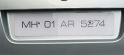0: (43, 20, 51, 28)
1: (50, 19, 57, 28)
2: (87, 19, 94, 28)
4: (98, 19, 106, 28)
5: (79, 19, 88, 28)
7: (93, 19, 100, 27)
A: (59, 20, 68, 28)
H: (30, 19, 39, 28)
M: (21, 19, 31, 29)
R: (67, 19, 75, 28)
